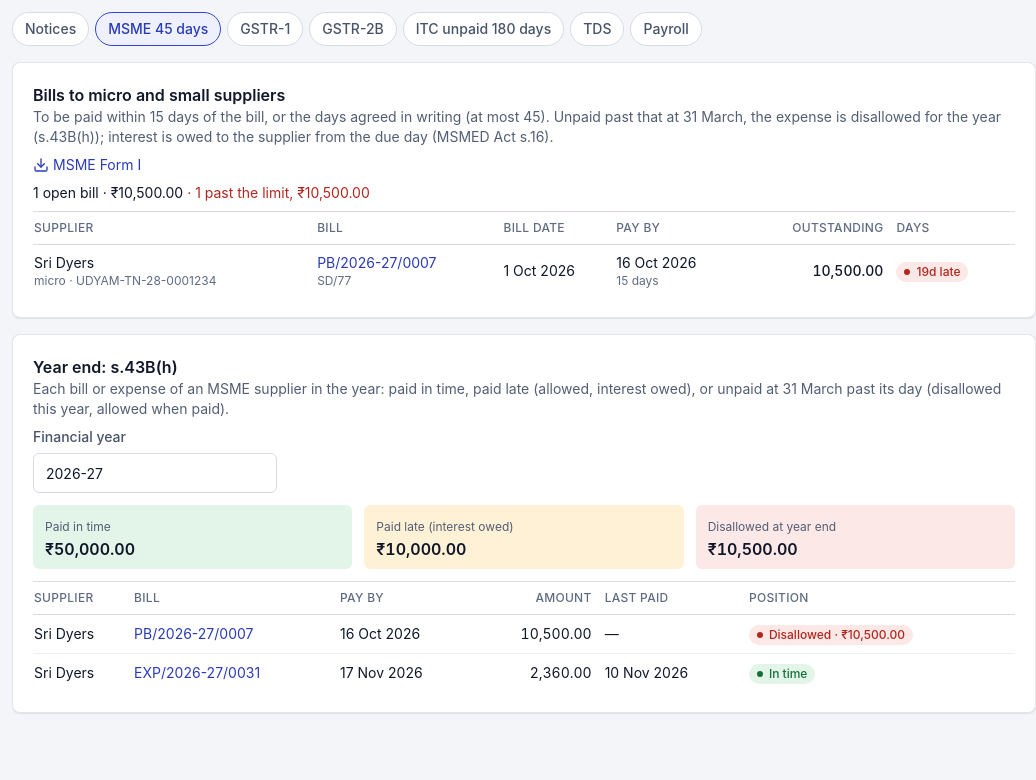
TDS and payroll on the statutory tab › shows the deposit register with the due day and records a challan
This screenshot has width=1036, height=780.
Click the button "TDS" at point(597, 29), box [570,12,624,46]
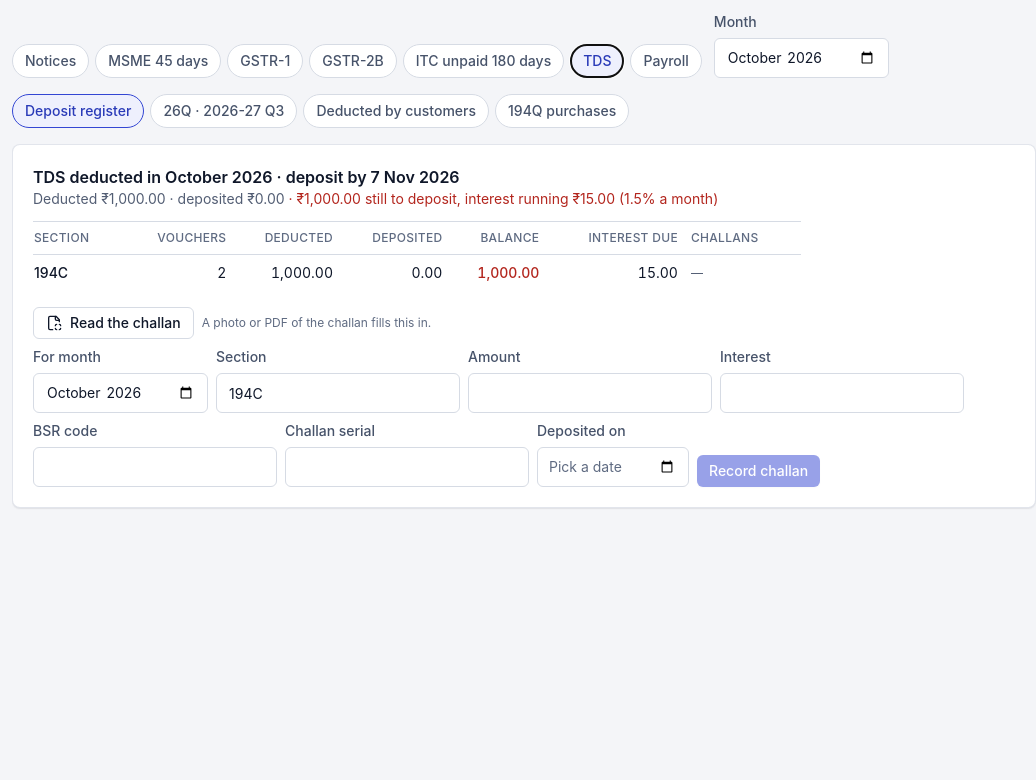
Check: the heading "TDS deducted in October 2026 · deposit by 7 Nov 2026" is shown, box [33,167,460,187]
Check: the text "194C" shows "1,000.00", box [271,264,333,281]
Check: the text "₹1,000.00 still to deposit, interest running ₹15.00" is shown, box [285,190,718,207]
Type "1000" into the number field labelled "Amount" at point(590, 393), box [468,373,712,413]
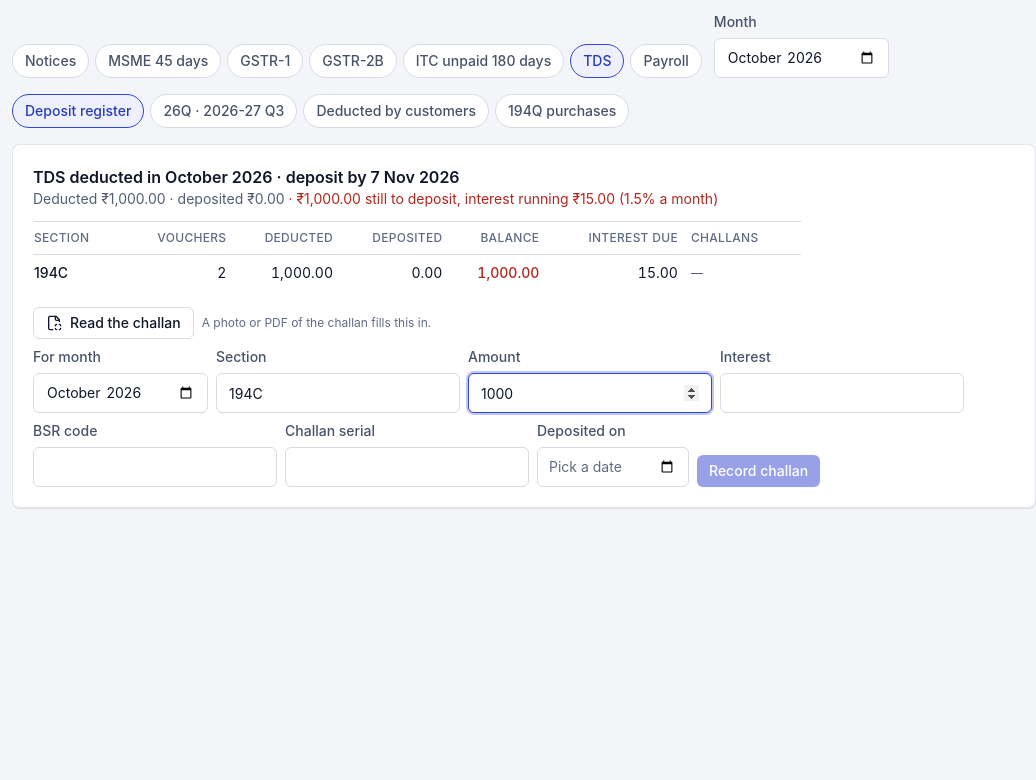
Type "2026-11-10" into the date field labelled "Deposited on" at point(613, 467), box [537,447,689,487]
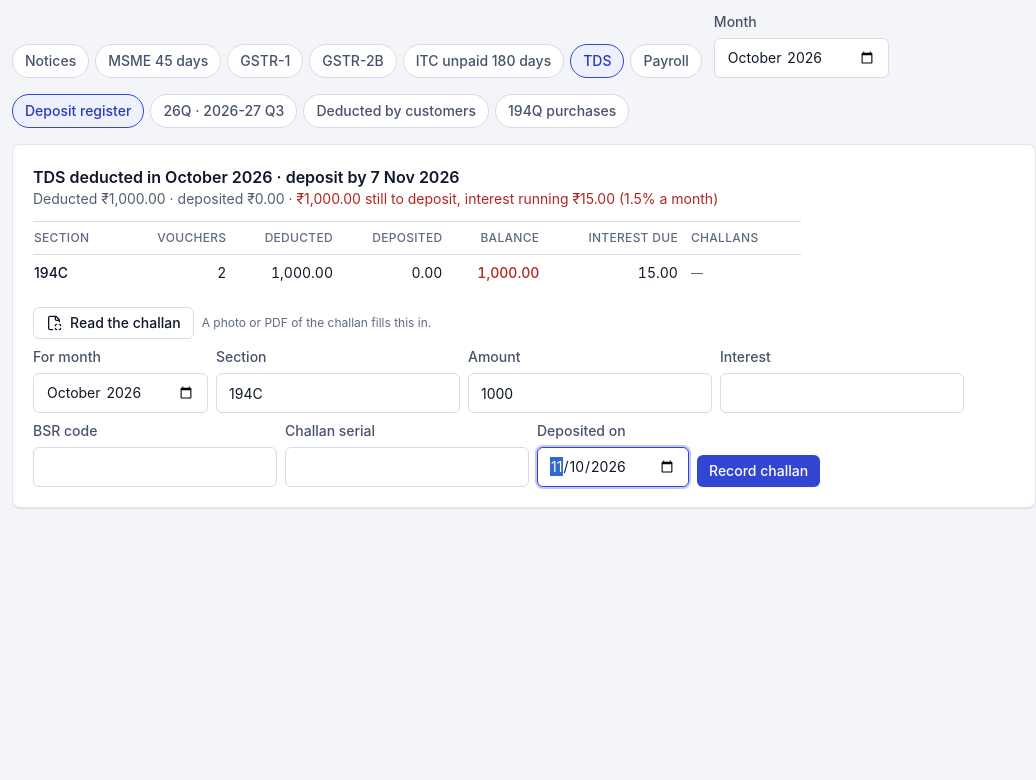
Click the button "Record challan" at point(759, 471), box [697,455,820,487]
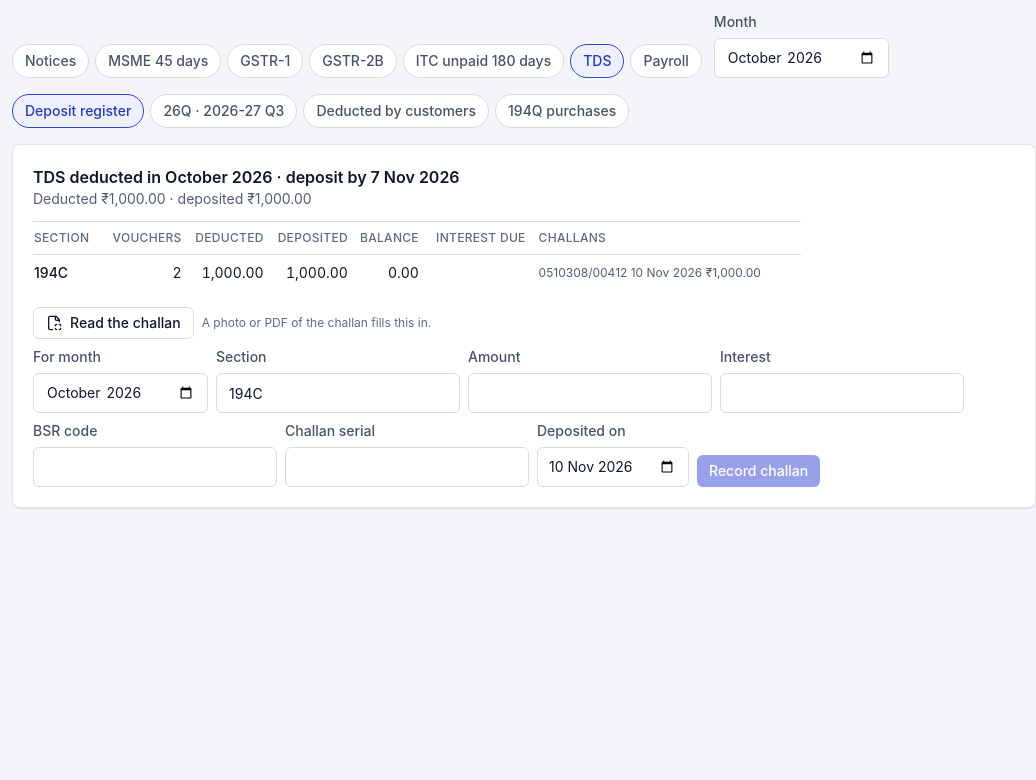
Check: the text "0510308/00412 10 Nov 2026 ₹1,000.00" is shown, box [527,254,801,291]
